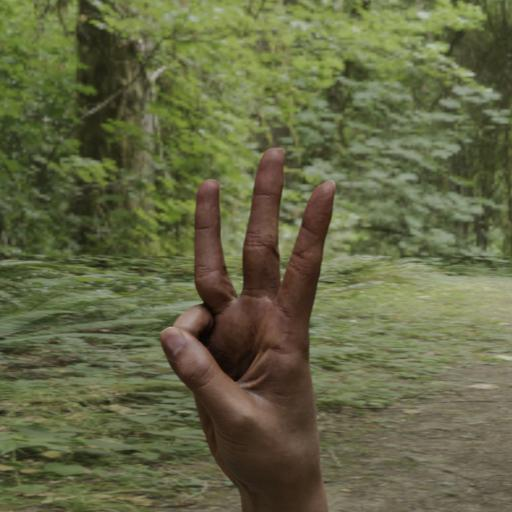W: (156, 145, 366, 505)
